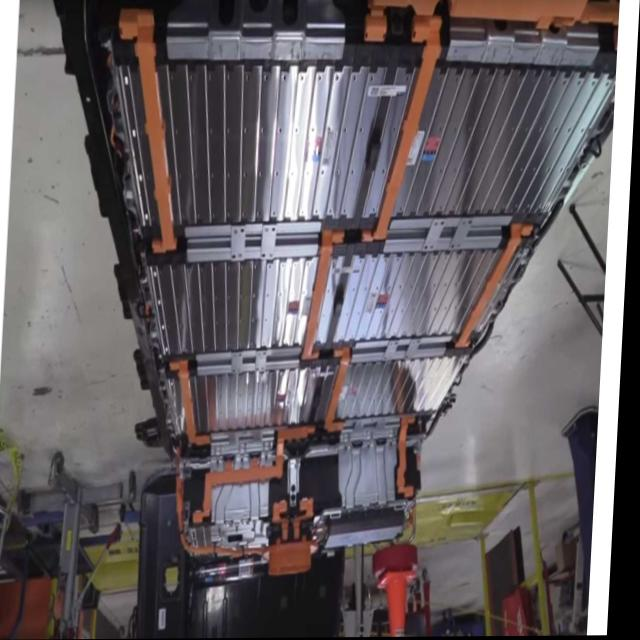Aluminum-frame: (172, 1, 345, 65), (452, 22, 601, 71), (190, 222, 325, 263), (388, 217, 514, 252), (357, 338, 455, 363)
Battery Module: (162, 79, 410, 219), (399, 75, 614, 212), (160, 261, 319, 355), (325, 255, 502, 337), (198, 372, 320, 431), (343, 362, 468, 418)
Bus-bar: (366, 16, 441, 240), (121, 10, 178, 254), (201, 427, 318, 523), (463, 226, 535, 347), (306, 232, 346, 361), (174, 362, 215, 444), (330, 350, 357, 431), (403, 418, 420, 497), (300, 500, 319, 539), (279, 502, 294, 543)
Cable: (182, 482, 269, 558)
Screw: (349, 449, 400, 501), (220, 487, 272, 516), (296, 483, 303, 502)
